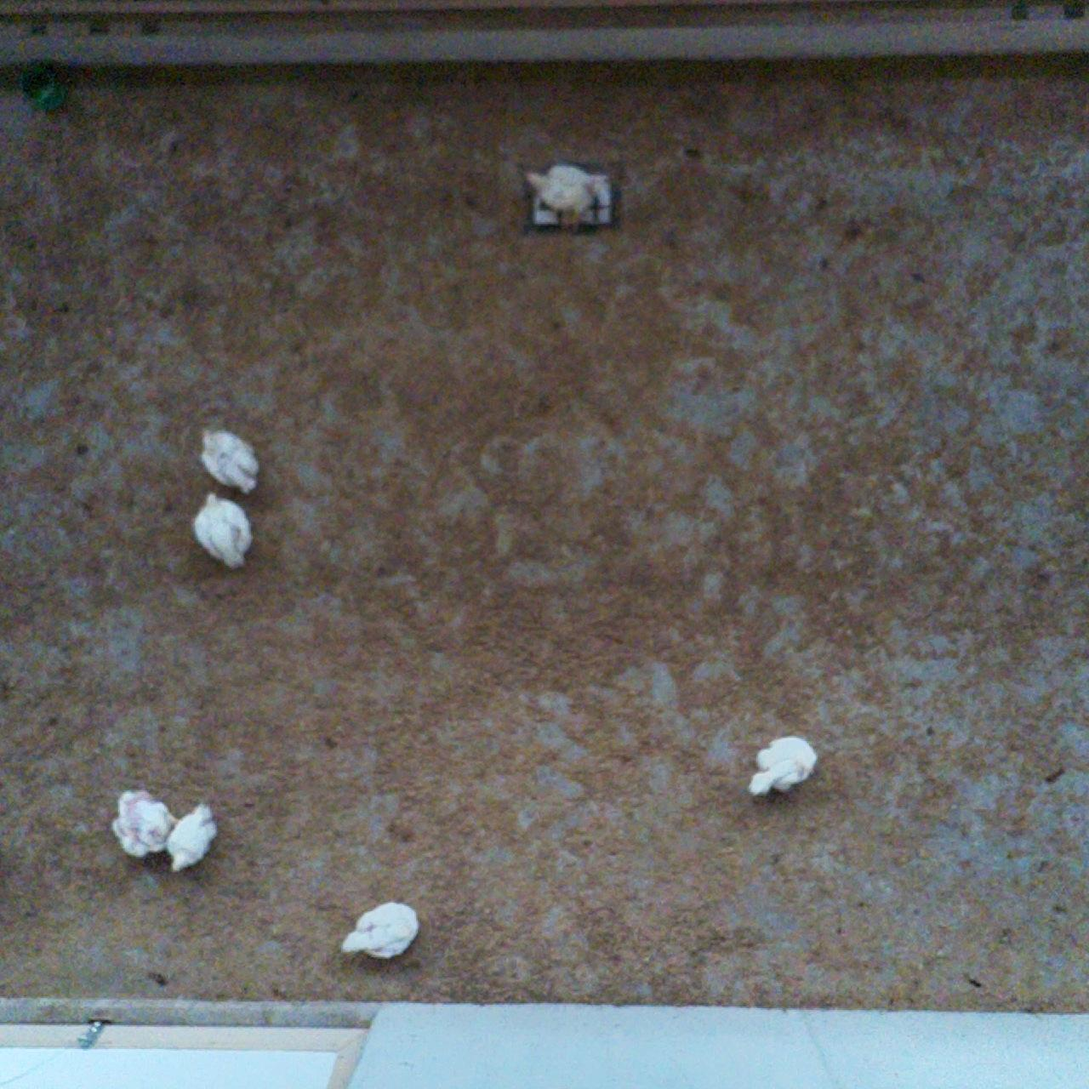chicken: (513, 164, 619, 234), (193, 413, 277, 500), (335, 896, 424, 969), (182, 495, 269, 568), (103, 791, 183, 864), (158, 802, 233, 879), (752, 734, 820, 805)
